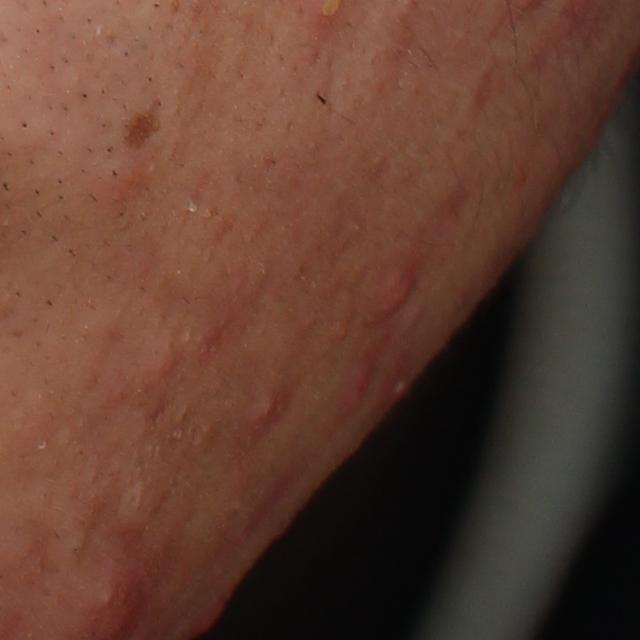nevus: (111, 104, 165, 155)
papule: (359, 261, 427, 324), (96, 160, 144, 211), (188, 590, 233, 640), (344, 353, 374, 413), (147, 346, 179, 386)
pustule: (388, 368, 411, 402)
